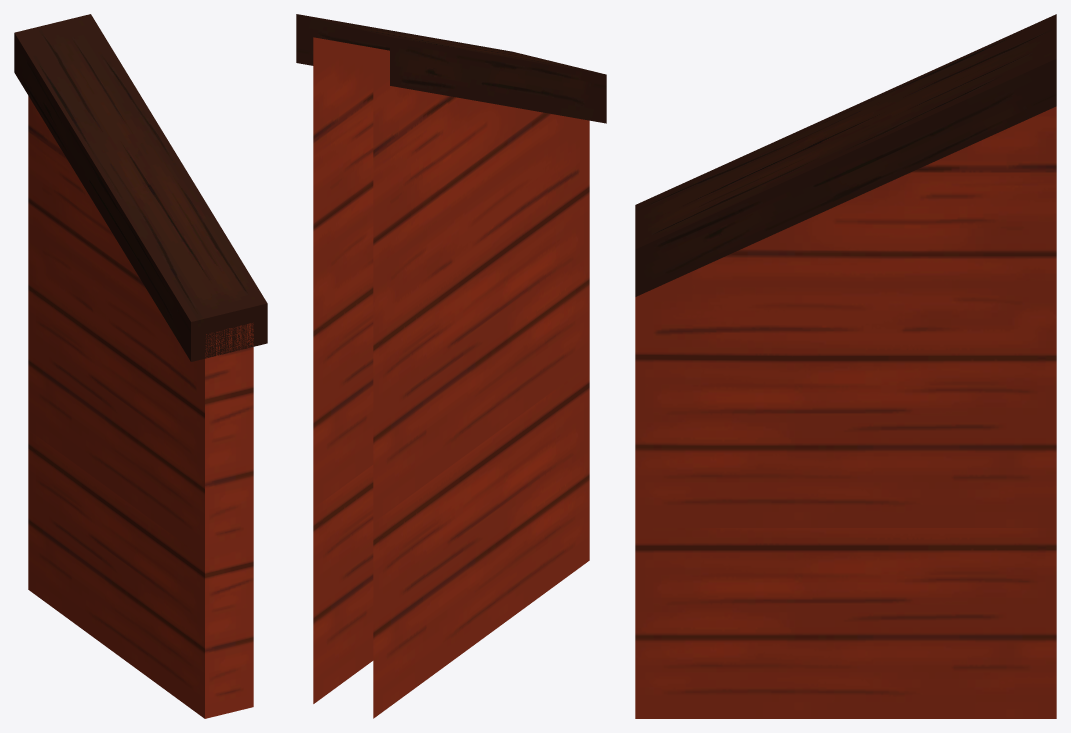
Rendered from Boat_Side_Slope.fbx.
The picture shows the model from 3 angles, left to right: view 1: azimuth 30°, elevation 25°; view 2: azimuth 150°, elevation 25°; view 3: azimuth 270°, elevation 25°; orthographic projection. The views are drawn at different scales.
Visible parts, largest first — view 1: Boat_Side_Slope; view 2: Boat_Side_Slope; view 3: Boat_Side_Slope.
Part boxes in pixels (x1,y1,x2,y2): Boat_Side_Slope: [14, 14, 267, 718]; Boat_Side_Slope: [296, 14, 606, 718]; Boat_Side_Slope: [635, 14, 1056, 718].
Size of the model in its own units: 0.5 by 3.5 by 2.
